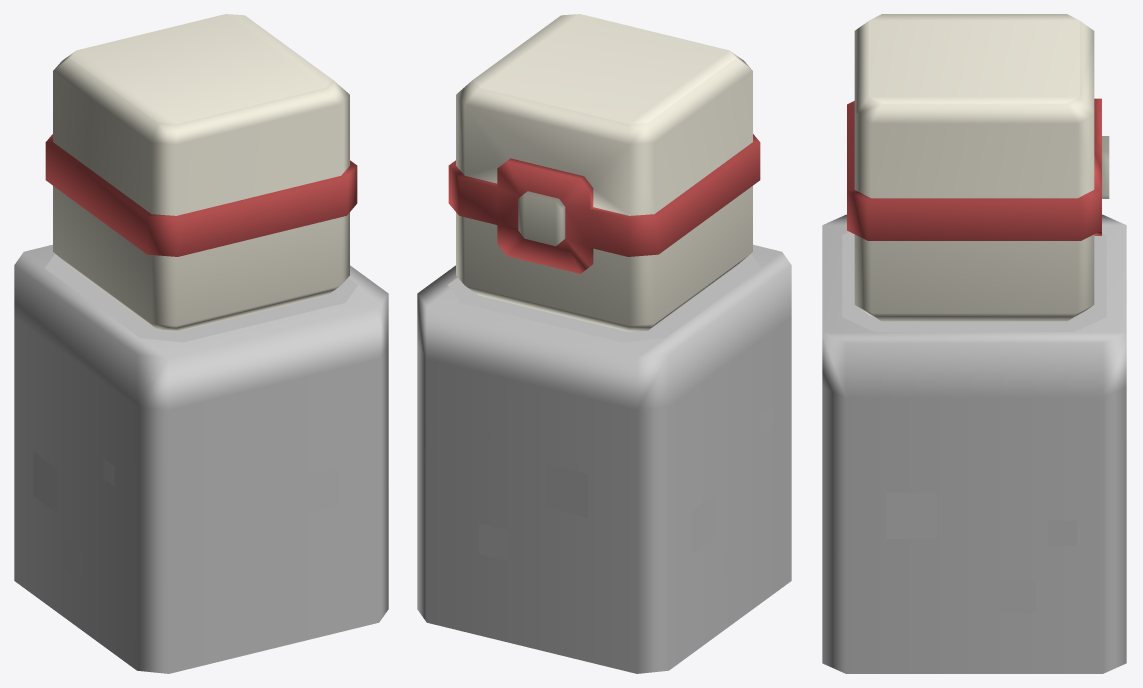
File: bdPremierBallModel.obj
3 renders of one model, left to right at view 1: azimuth 30°, elevation 25°; view 2: azimuth 150°, elevation 25°; view 3: azimuth 270°, elevation 25°, orthographic. The views are drawn at different scales.
Parts seen in each view (by area): view 1: bdPremierBallModel_Base, bdPremierBallModel_BallUp, bdPremierBallModel_Ball; view 2: bdPremierBallModel_Base, bdPremierBallModel_BallUp, bdPremierBallModel_Ball; view 3: bdPremierBallModel_Base, bdPremierBallModel_BallUp, bdPremierBallModel_Ball.
Boxes of the visible parts, x1=… form: bdPremierBallModel_Base: x1=14, y1=244, x2=388, y2=673; bdPremierBallModel_BallUp: x1=45, y1=14, x2=357, y2=256; bdPremierBallModel_Ball: x1=53, y1=186, x2=349, y2=331; bdPremierBallModel_Base: x1=417, y1=244, x2=791, y2=673; bdPremierBallModel_BallUp: x1=448, y1=14, x2=760, y2=273; bdPremierBallModel_Ball: x1=456, y1=186, x2=752, y2=331; bdPremierBallModel_Base: x1=822, y1=214, x2=1126, y2=673; bdPremierBallModel_BallUp: x1=847, y1=14, x2=1109, y2=240; bdPremierBallModel_Ball: x1=854, y1=234, x2=1094, y2=321.
Size of the model in its own units: 2.54 by 5 by 2.54.
